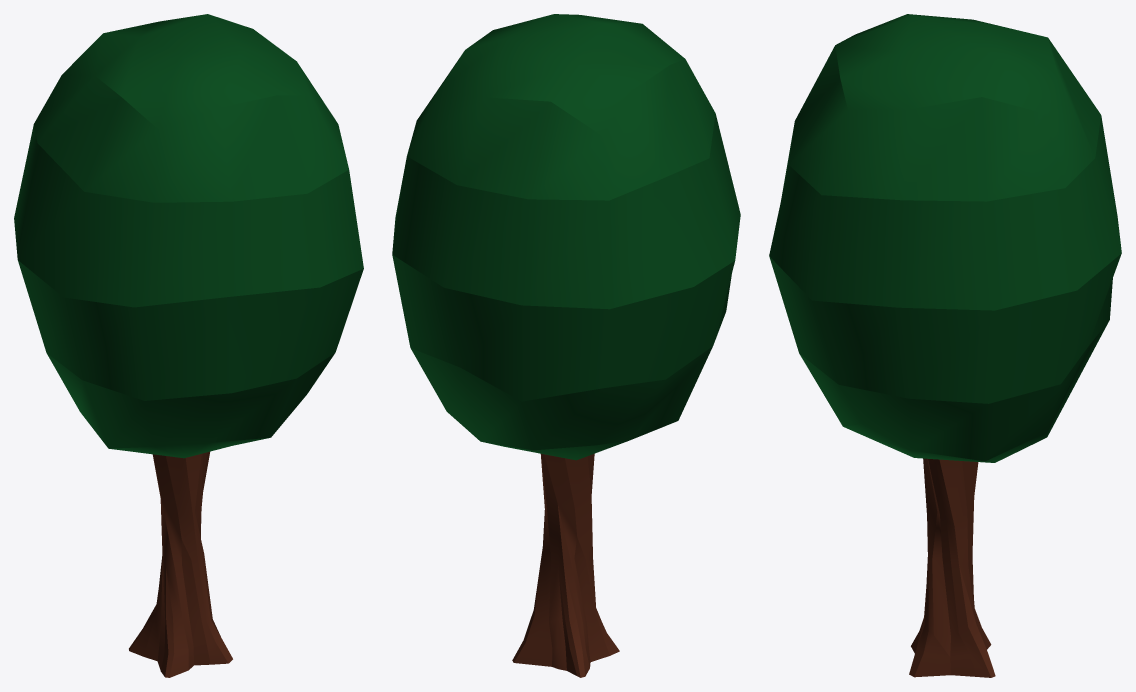
Rendered from Tree_2_High_1.fbx.
3 views of the same model, side by side, from view 1: azimuth 30°, elevation 25°; view 2: azimuth 150°, elevation 25°; view 3: azimuth 270°, elevation 25° (orthographic). The views are drawn at different scales.
Parts seen in each view (by area): view 1: Tree_2_High_1; view 2: Tree_2_High_1; view 3: Tree_2_High_1.
Part boxes in pixels (x1,y1,x2,y2): Tree_2_High_1: (14,14,363,677); Tree_2_High_1: (392,14,740,677); Tree_2_High_1: (769,14,1121,677).
Size of the model in its own units: 101 by 204 by 102.
